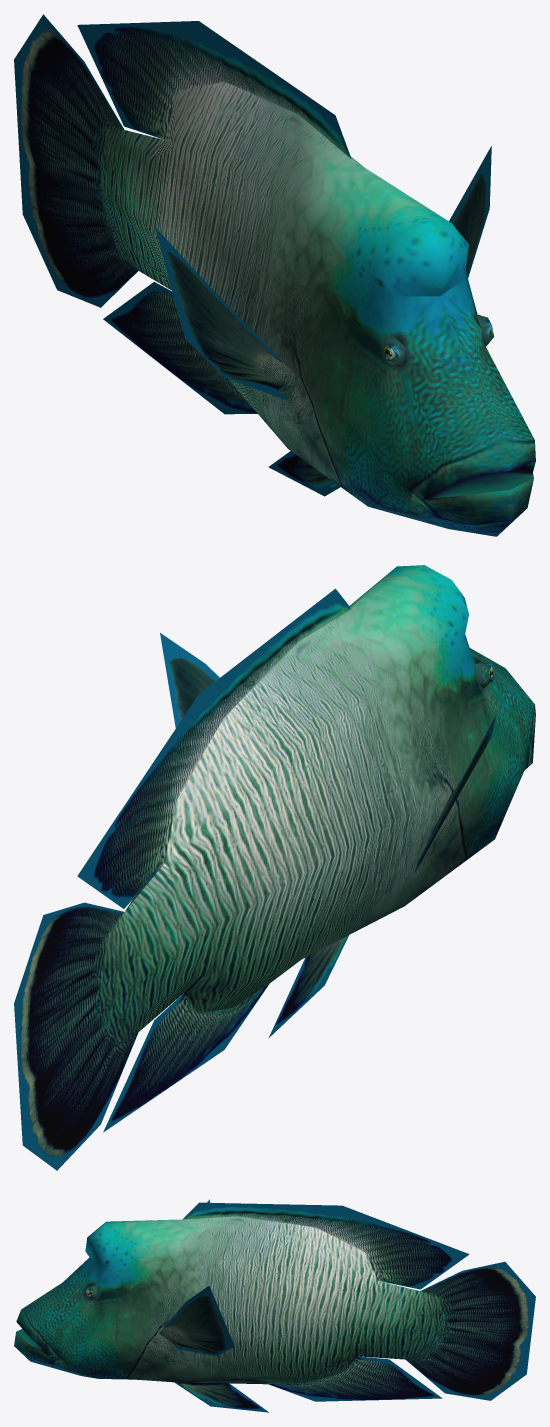
Rendered from Napoleon.fbx.
The picture shows the model from 3 angles, top to bottom: view 1: azimuth 30°, elevation 25°; view 2: azimuth 150°, elevation 25°; view 3: azimuth 270°, elevation 25°; orthographic projection. The views are drawn at different scales.
Parts seen in each view (by area): view 1: napoleon3, polySurface5; view 2: napoleon3, polySurface5; view 3: napoleon3, polySurface5.
Boxes of the visible parts, x1,y1,x2,y2 form: napoleon3: (99, 81, 535, 536); polySurface5: (14, 14, 491, 496); napoleon3: (99, 565, 535, 1044); polySurface5: (14, 588, 496, 1170); napoleon3: (14, 1216, 445, 1384); polySurface5: (159, 1199, 535, 1412).
Size of the model in its own units: 23.59 by 26.85 by 60.46.
